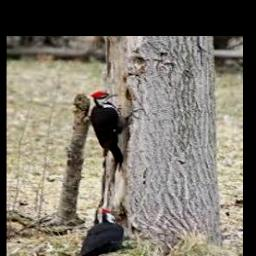Woodpecker: (90, 91, 142, 172), (80, 208, 138, 256)
